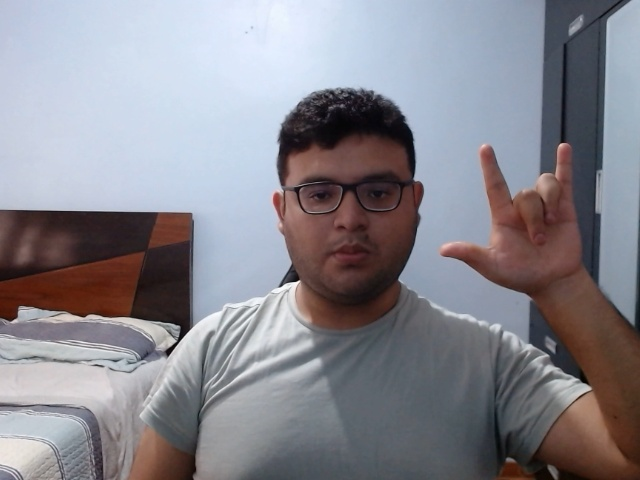I love you: (438, 139, 604, 295)
